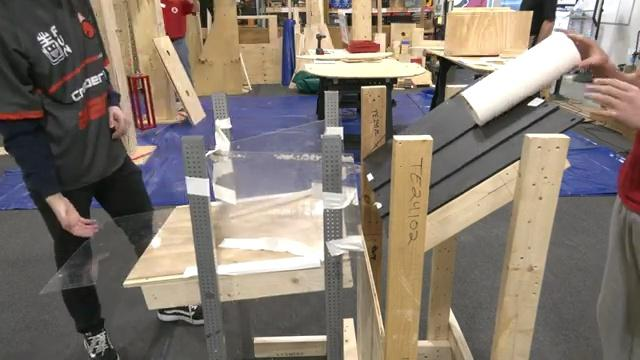CORAL: (459, 30, 582, 126)
